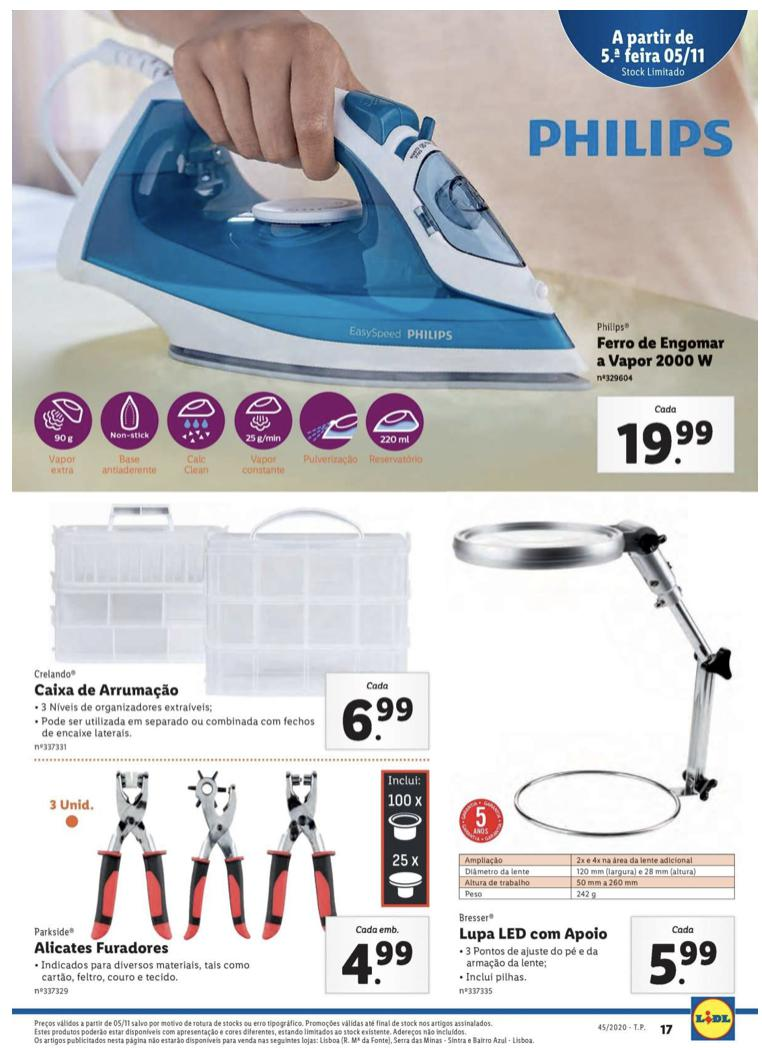name: (595, 330, 731, 372), (27, 676, 184, 704), (29, 934, 174, 964), (457, 922, 612, 947)
price: (610, 416, 725, 477), (642, 933, 723, 991), (338, 935, 421, 990), (340, 692, 416, 748)
product: (21, 39, 747, 487), (447, 496, 745, 1000), (19, 501, 429, 756), (19, 765, 447, 1000)
